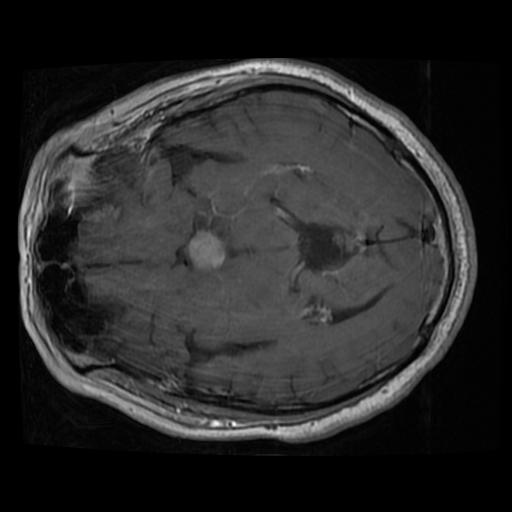pituitary tumour: (185, 231, 225, 272)
